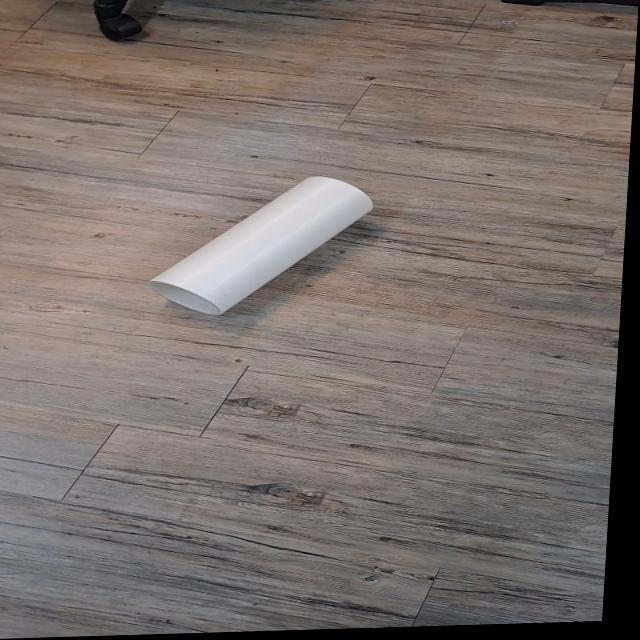CORAL: (147, 165, 392, 328)
